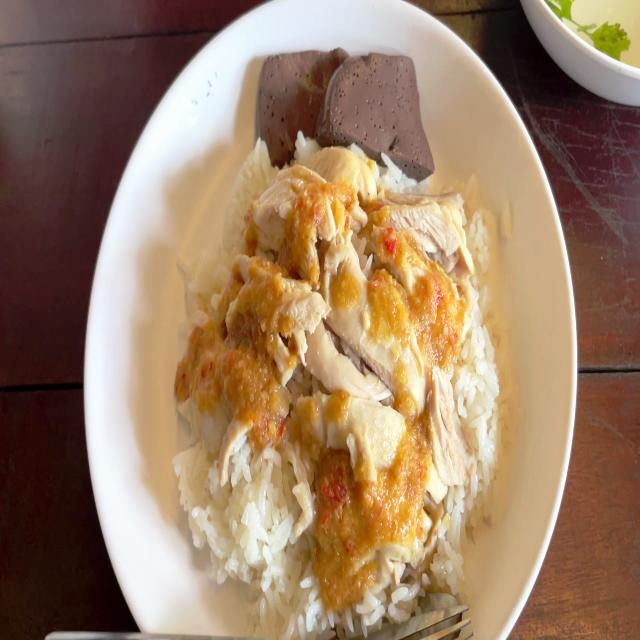boiled_chicken: (218, 177, 448, 542)
boiled_chicken_blood_jelly: (324, 47, 422, 156), (266, 45, 341, 148)
chicken_rice: (175, 57, 509, 621)
